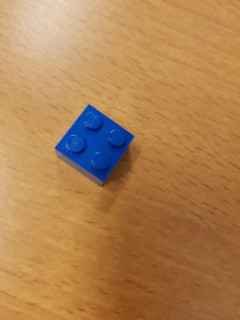2x2 blue: (53, 103, 137, 189)
